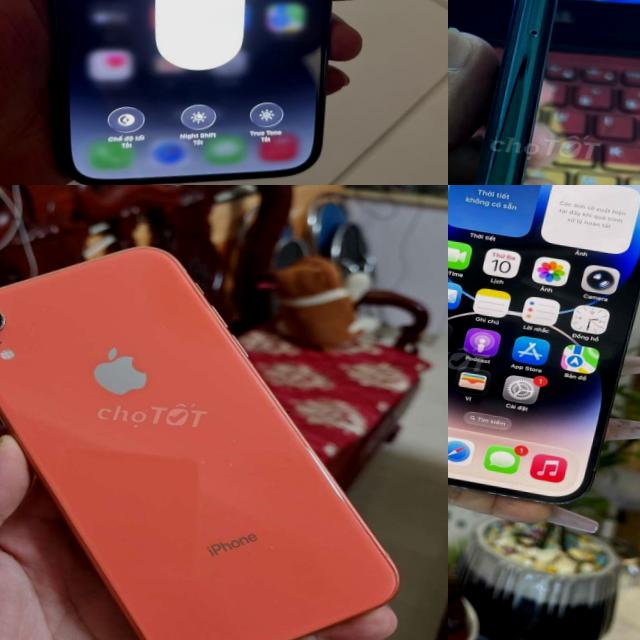gen_11: (448, 0, 607, 185)
gen_14: (8, 0, 371, 185), (448, 185, 640, 526)
gen_x_xs: (0, 215, 437, 640)
scratch: (478, 136, 540, 185), (509, 0, 567, 34)
